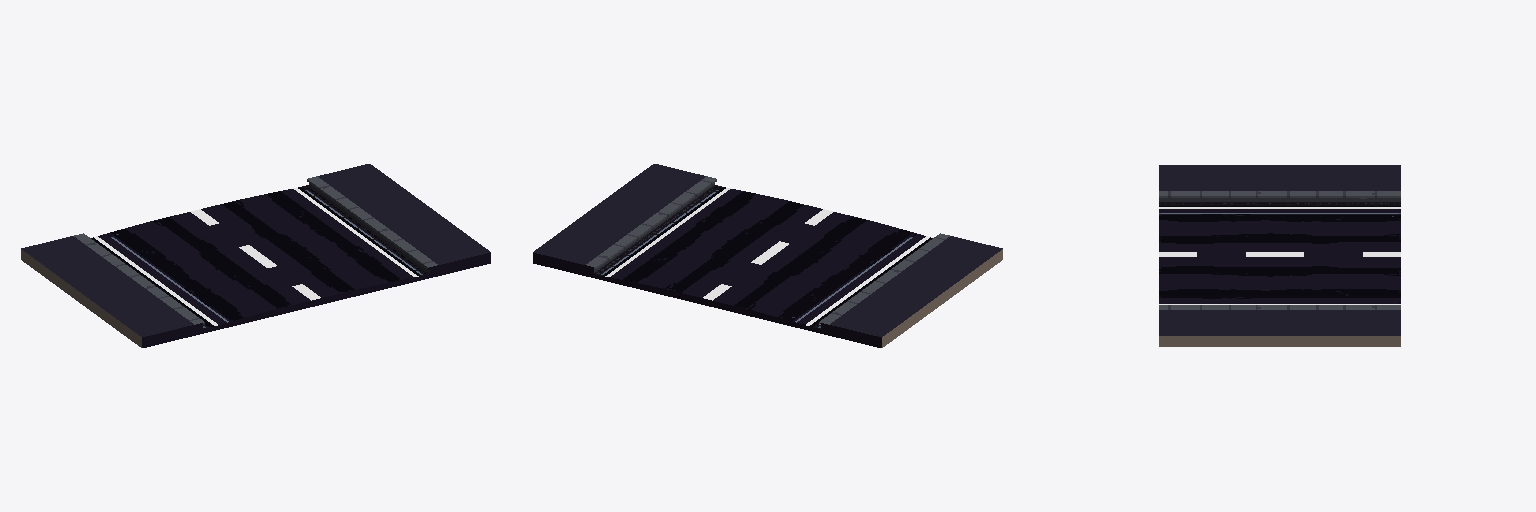
The picture shows the model from 3 angles: view 1: azimuth 30°, elevation 25°; view 2: azimuth 150°, elevation 25°; view 3: azimuth 270°, elevation 25°; orthographic projection.
Parts seen in each view (by area): view 1: cuboid; view 2: cuboid; view 3: cuboid.
Boxes of the visible parts, x1,y1,x2,y2 form: cuboid: [21, 164, 490, 347]; cuboid: [533, 164, 1002, 347]; cuboid: [1159, 165, 1400, 346].
Bounding box in the file's own units: 10.38 × 0.3125 × 6.25.
Materials: 1 (1 with a texture image).